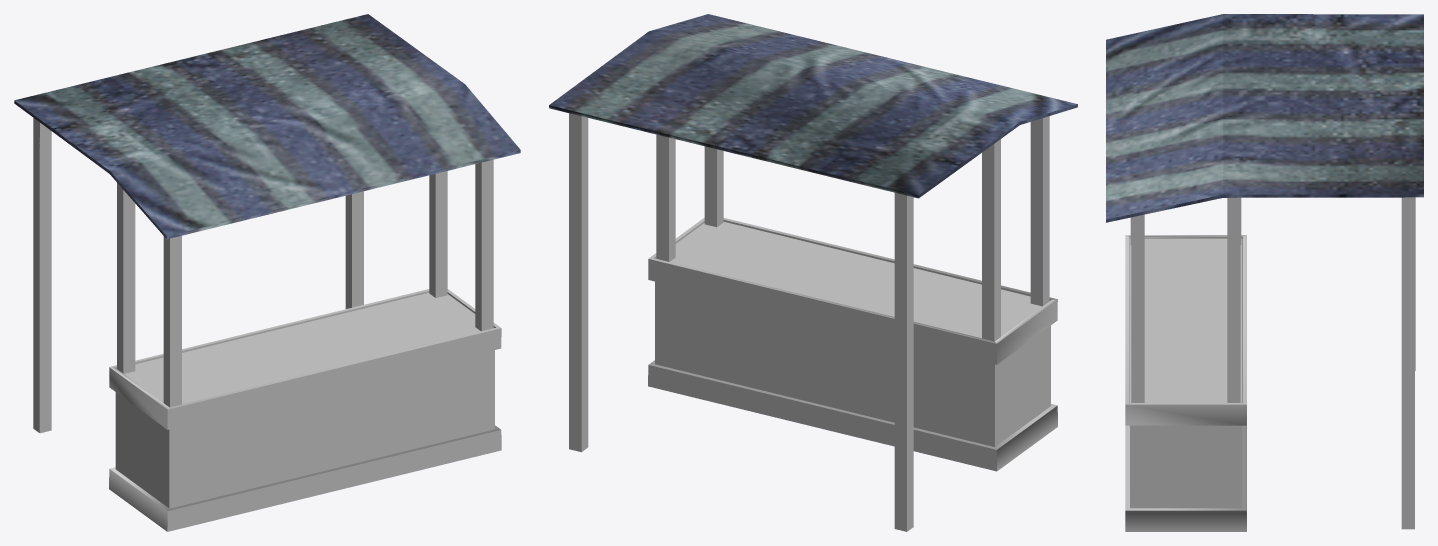
File: MS_MarketStand.fbx
3 views of the same model, side by side, from view 1: azimuth 30°, elevation 25°; view 2: azimuth 150°, elevation 25°; view 3: azimuth 270°, elevation 25° (orthographic). The views are drawn at different scales.
Visible parts, largest first — view 1: MSH_FishMarketStand; view 2: MSH_FishMarketStand; view 3: MSH_FishMarketStand.
Boxes of the visible parts, x1,y1,x2,y2 form: MSH_FishMarketStand: (14, 14, 520, 531); MSH_FishMarketStand: (549, 14, 1077, 531); MSH_FishMarketStand: (1106, 14, 1423, 531).
Size of the model in its own units: 218 by 192 by 162.
